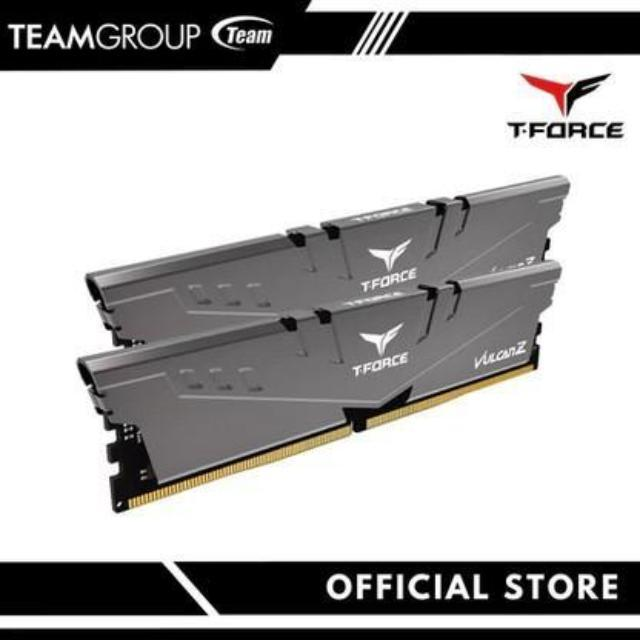RAM: (69, 172, 563, 516)
